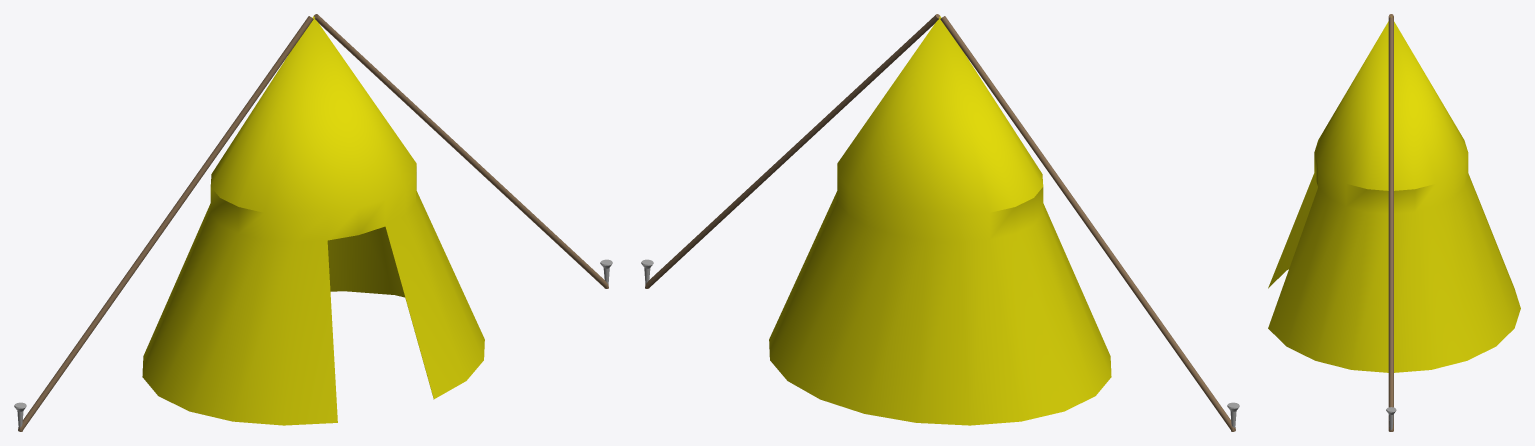
Rendered from Triangle_Tent_Yellow_FBX_EXport.fbx.
The picture shows the model from 3 angles, left to right: view 1: azimuth 30°, elevation 25°; view 2: azimuth 150°, elevation 25°; view 3: azimuth 270°, elevation 25°; orthographic projection. The views are drawn at different scales.
Parts seen in each view (by area): view 1: Tent_1_Export:Tent_3; view 2: Tent_1_Export:Tent_3; view 3: Tent_1_Export:Tent_3.
Part boxes in pixels (bbox=[...]): Tent_1_Export:Tent_3: bbox=[14, 14, 612, 431]; Tent_1_Export:Tent_3: bbox=[641, 14, 1239, 431]; Tent_1_Export:Tent_3: bbox=[1268, 14, 1520, 431].
Bounding box in the file's own units: 13.41 × 7.39 × 5.77.
